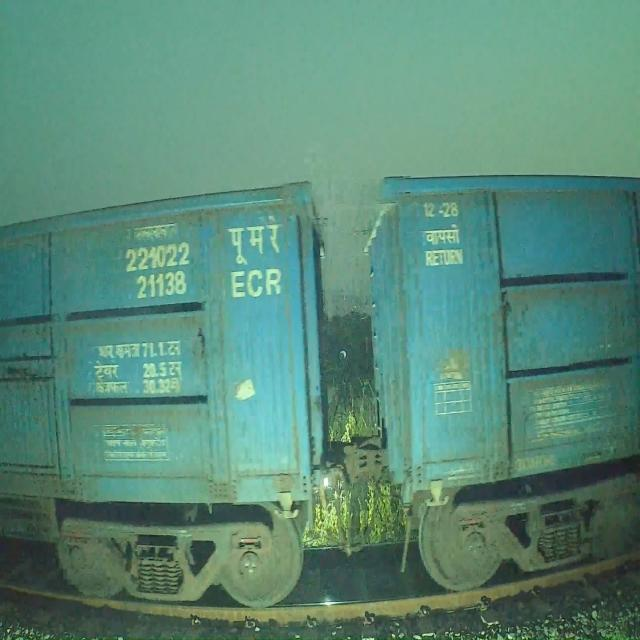WAgon-uic: (0, 178, 330, 612), (365, 172, 640, 593)
uic: (118, 238, 193, 304)
